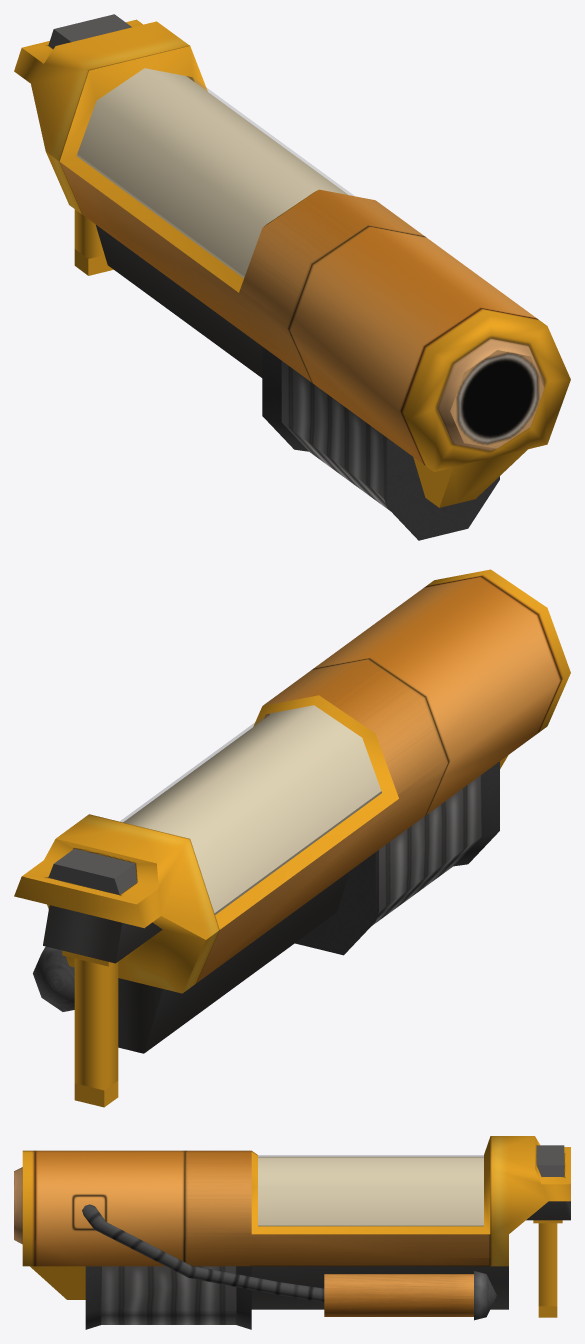
File: Raygun.fbx
3 views of the same model, one above another, from view 1: azimuth 30°, elevation 25°; view 2: azimuth 150°, elevation 25°; view 3: azimuth 270°, elevation 25° (orthographic). The views are drawn at different scales.
Parts seen in each view (by area): view 1: EnergyGun, EnergyTube; view 2: EnergyGun, EnergyTube, Ammo; view 3: EnergyGun, EnergyTube, Ammo.
Boxes of the visible parts, x1,y1,x2,y2 form: EnergyGun: (14,14,570,540); EnergyTube: (76,68,347,278); EnergyGun: (14,569,570,1107); EnergyTube: (123,705,381,914); Ammo: (33,946,74,1011); EnergyGun: (14,1136,570,1329); EnergyTube: (258,1156,483,1226); Ammo: (82,1204,496,1320).
Bounding box in the file's own units: 3.38 × 12.62 × 4.23.
